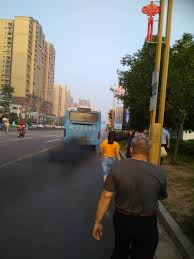smoke: (49, 135, 92, 172)
